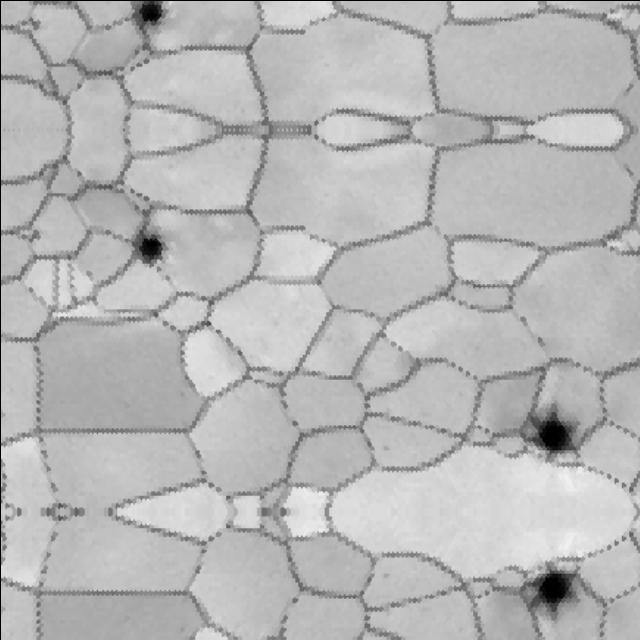good_void: (522, 399, 582, 461), (522, 560, 582, 622), (128, 218, 171, 270), (131, 0, 170, 37), (27, 223, 46, 242), (27, 14, 46, 33), (378, 442, 391, 453), (378, 568, 391, 579)
